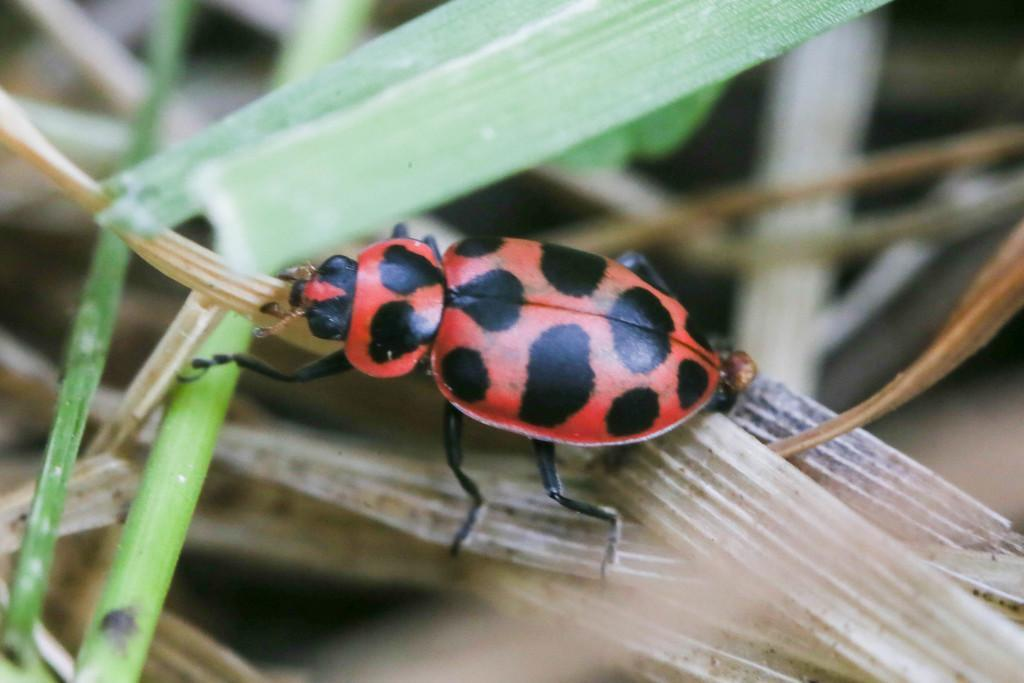ladybug: (173, 221, 757, 585)
